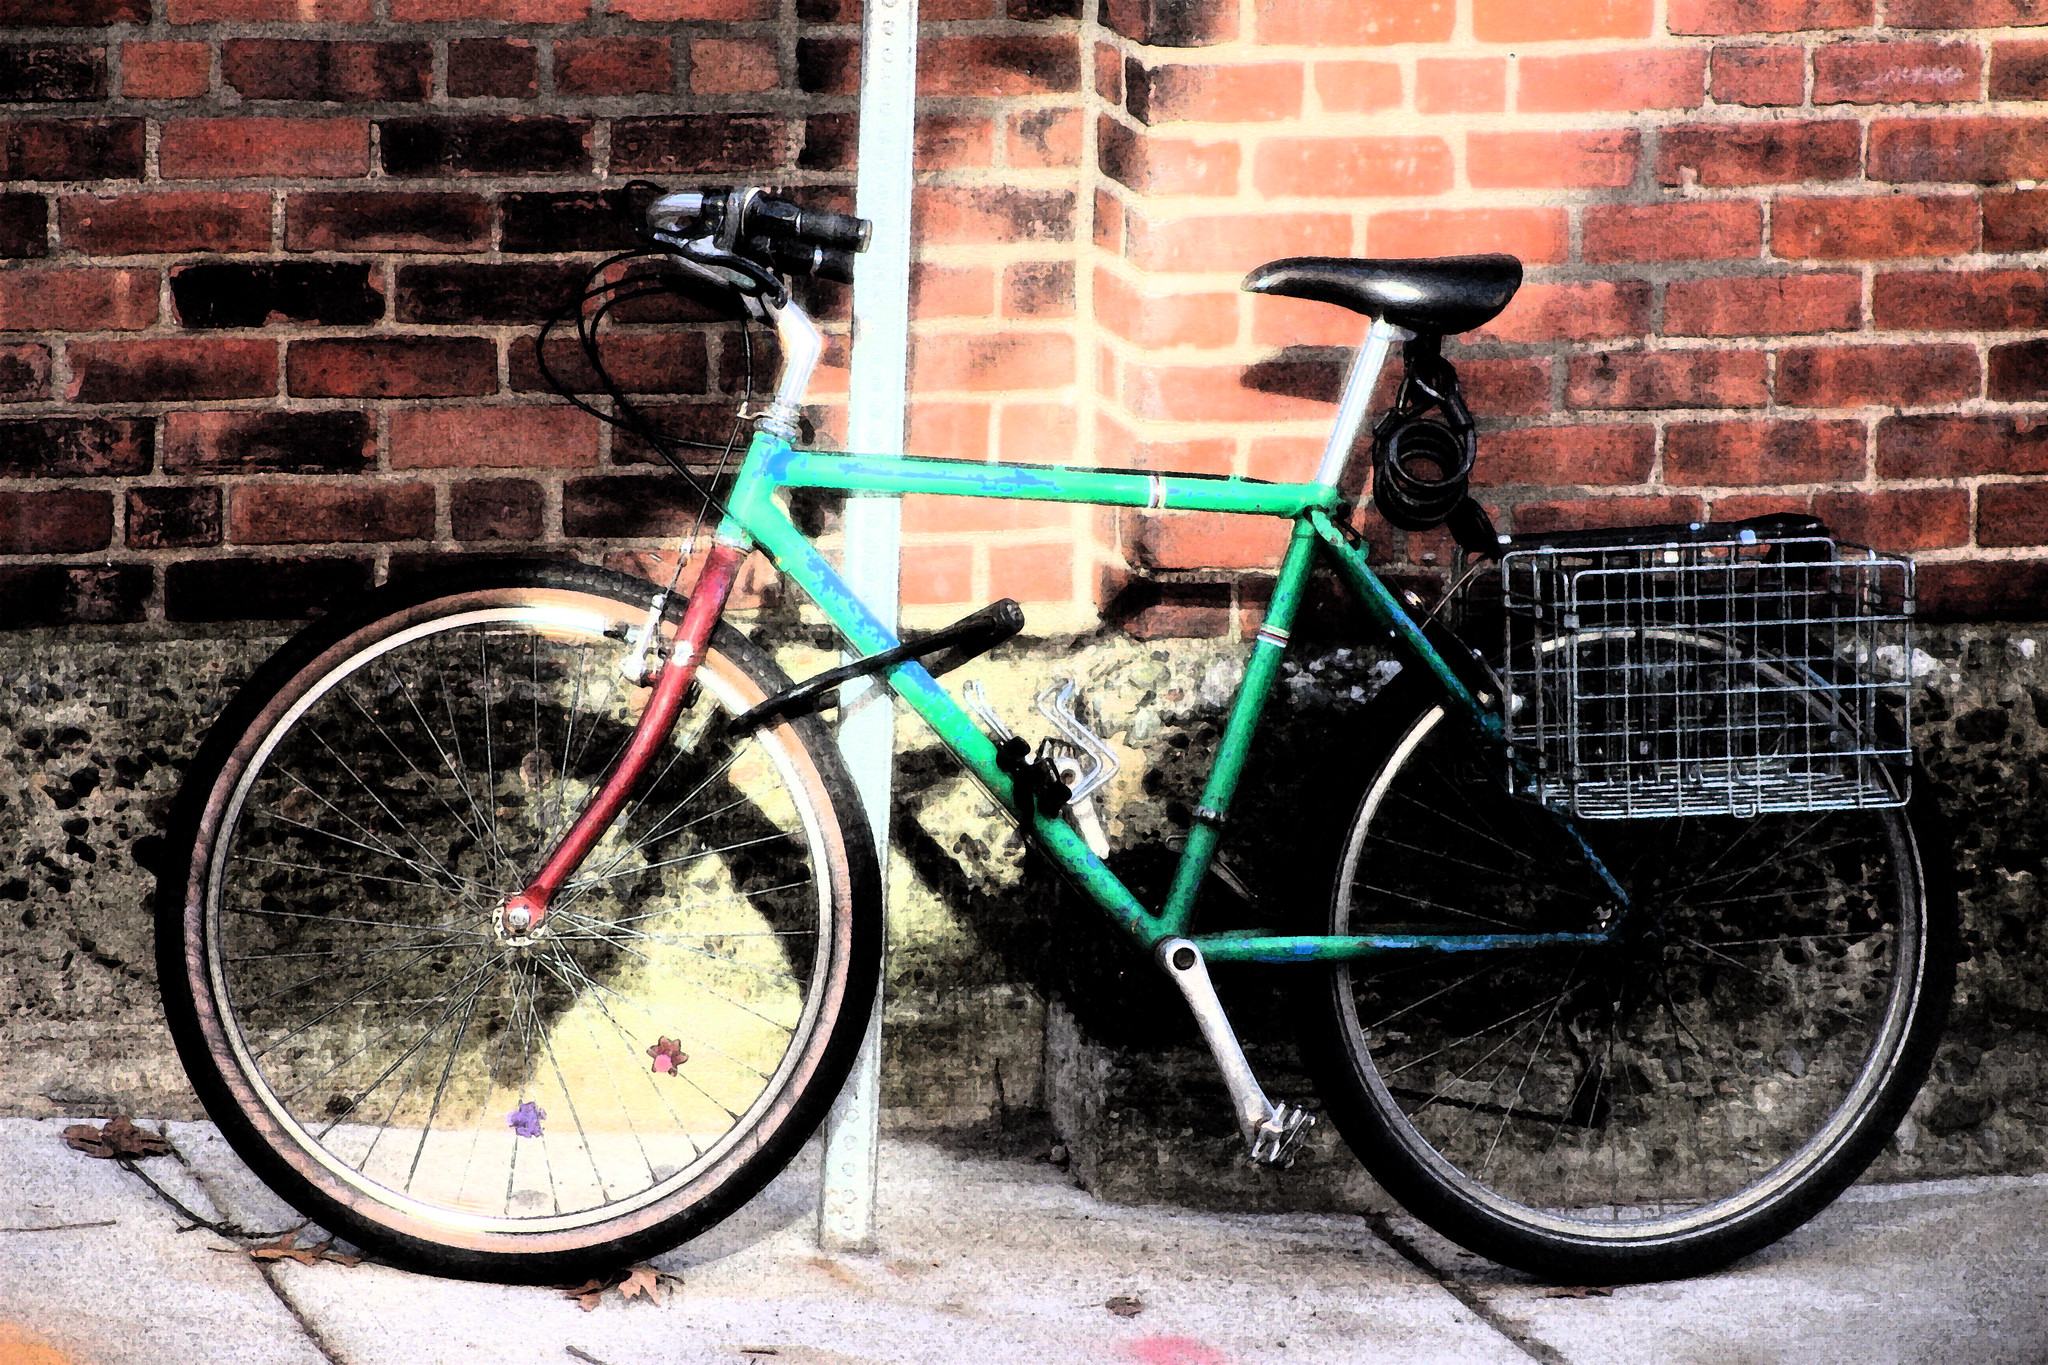bicycle: (134, 184, 1928, 1255)
